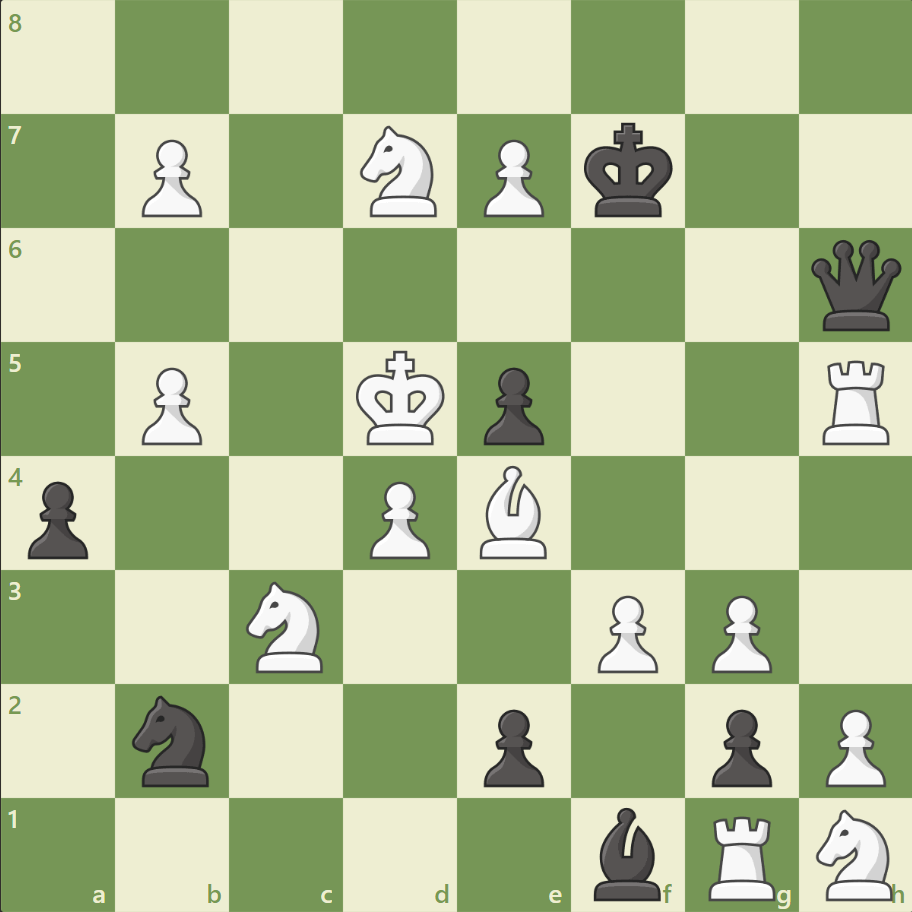B: (471, 460, 555, 563)
K: (351, 344, 451, 452)
N: (351, 121, 449, 223), (238, 575, 335, 677), (806, 802, 903, 904)
P: (133, 132, 208, 223), (474, 132, 549, 223), (133, 359, 208, 450), (701, 586, 776, 677), (361, 473, 435, 564), (588, 586, 662, 677), (815, 700, 889, 791)
R: (700, 806, 783, 904), (814, 352, 897, 449)
b: (585, 801, 669, 904)
k: (579, 117, 679, 225)
n: (124, 688, 222, 791)
p: (474, 359, 549, 450), (20, 473, 95, 564), (474, 700, 549, 791), (701, 700, 776, 791)
q: (805, 236, 904, 335)
